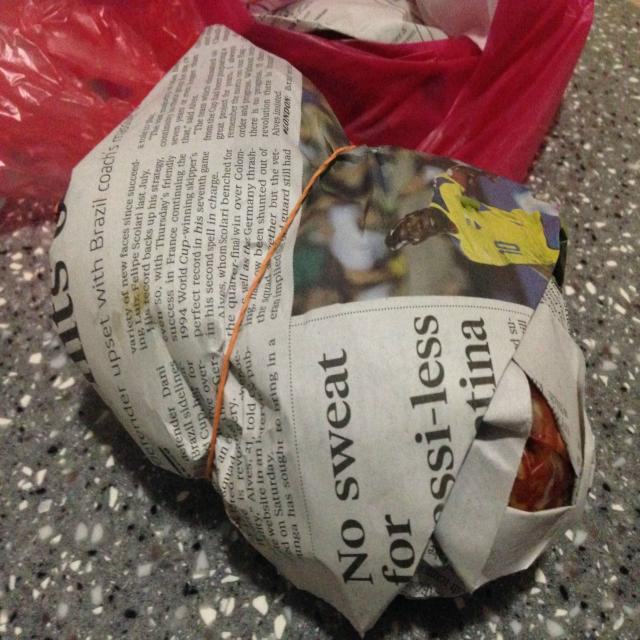newspaper: (55, 28, 598, 617)
